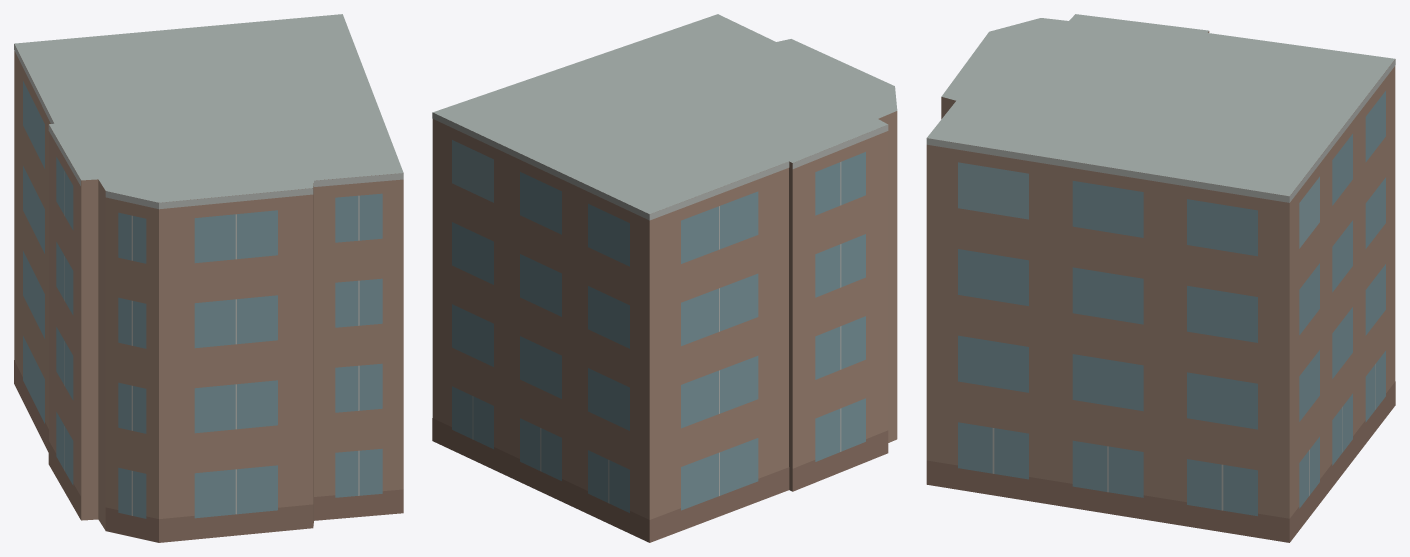
The model's file is survey-upis-32960901.glb.
3 views of the same model, side by side, from view 1: azimuth 30°, elevation 25°; view 2: azimuth 150°, elevation 25°; view 3: azimuth 270°, elevation 25° (orthographic). The views are drawn at different scales.
Parts seen in each view (by area): view 1: survey-upis-32960901.tmp; view 2: survey-upis-32960901.tmp; view 3: survey-upis-32960901.tmp.
Part boxes in pixels (x1,y1,x2,y2): survey-upis-32960901.tmp: (14,14,403,542); survey-upis-32960901.tmp: (432,14,897,542); survey-upis-32960901.tmp: (926,14,1395,542).
Size of the model in its own units: 14.45 by 12.8 by 15.7.
